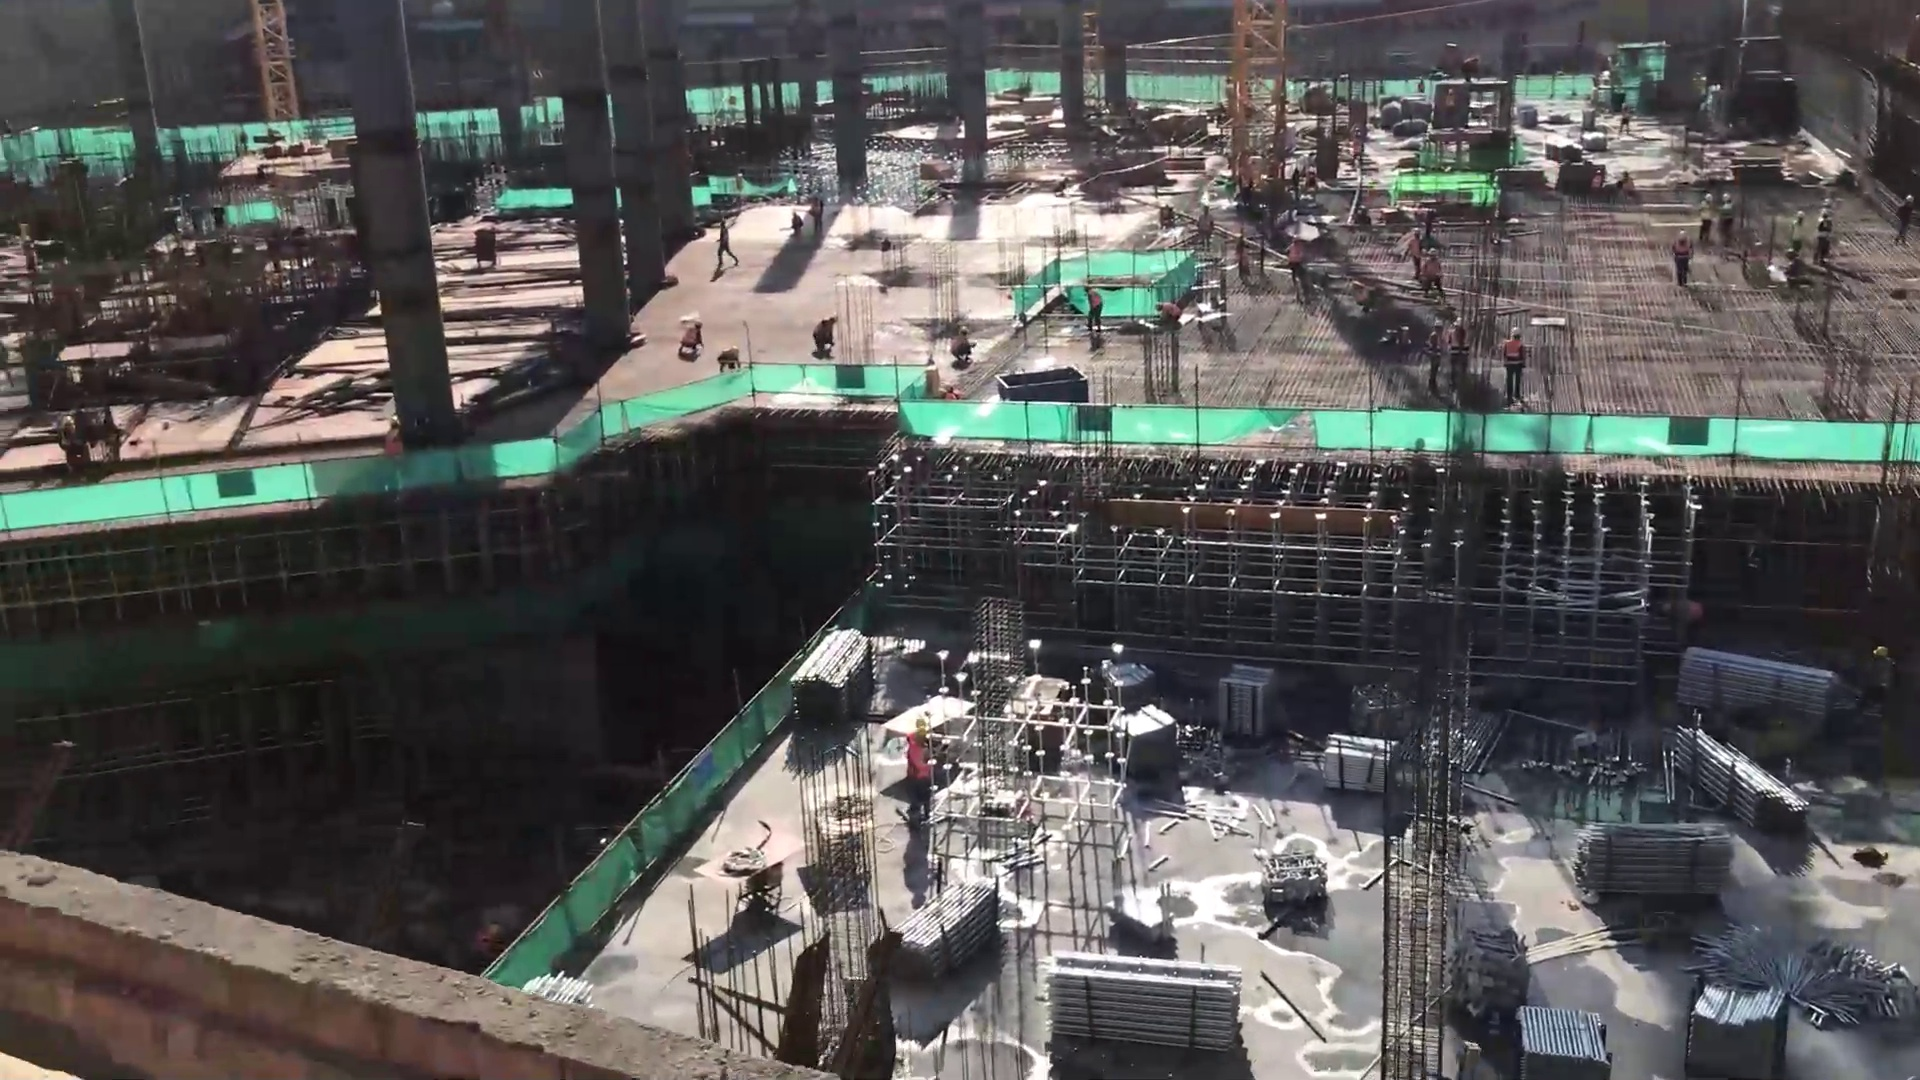helmet: (905, 711, 937, 745), (1900, 188, 1918, 212), (1429, 314, 1448, 333), (1671, 228, 1693, 244), (1449, 314, 1473, 329), (1815, 206, 1834, 222), (1509, 325, 1528, 339), (1792, 209, 1809, 224), (1701, 189, 1714, 208), (1718, 188, 1732, 202)
person: (899, 710, 943, 835), (1413, 314, 1449, 404), (1498, 321, 1533, 409), (1445, 313, 1474, 400), (1664, 225, 1703, 289), (1077, 281, 1109, 352), (1283, 232, 1312, 308), (670, 313, 710, 366), (1888, 188, 1918, 261), (802, 312, 845, 360), (1811, 204, 1838, 271), (1711, 186, 1739, 252), (1782, 207, 1810, 269), (711, 220, 739, 282), (945, 320, 977, 371), (1695, 187, 1718, 253), (1420, 245, 1446, 298), (1401, 224, 1429, 270), (1154, 297, 1186, 336), (713, 341, 746, 377)
vest: (904, 736, 936, 796), (1448, 331, 1475, 370), (1500, 339, 1528, 374), (1421, 329, 1448, 363), (1786, 220, 1808, 249), (1695, 203, 1713, 235), (1287, 244, 1308, 271), (1161, 299, 1182, 326), (1814, 220, 1834, 248), (1715, 201, 1735, 228), (1671, 242, 1689, 271)
